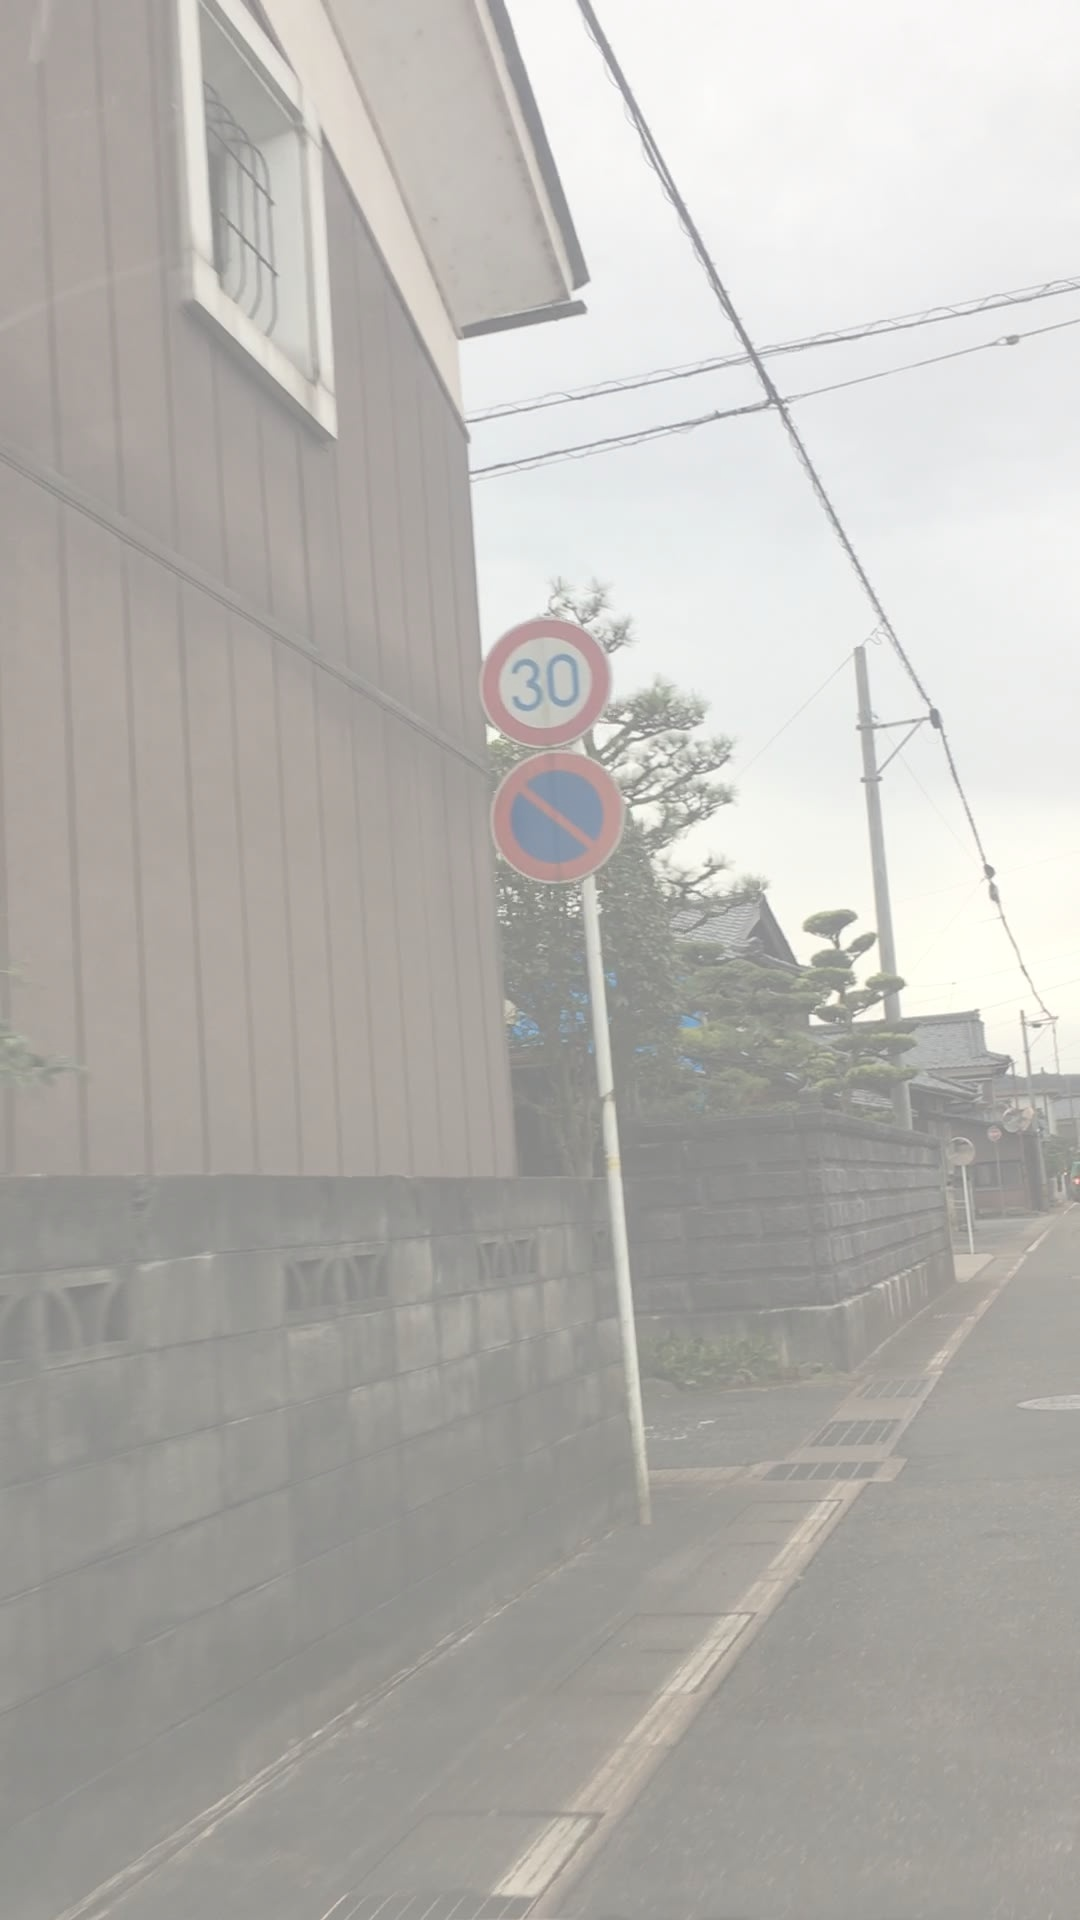Prohibition_sign: (483, 746, 636, 902)
Speed_sign: (480, 620, 611, 746)
